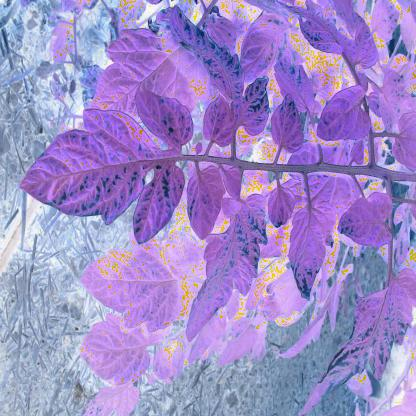Tomato leaf bacterial spot: (18, 101, 166, 237), (167, 8, 281, 151), (185, 172, 267, 343), (276, 196, 348, 316), (324, 170, 398, 267), (128, 156, 190, 254), (312, 66, 367, 150), (180, 160, 225, 241), (135, 92, 195, 151), (270, 95, 307, 167), (265, 179, 299, 232)
